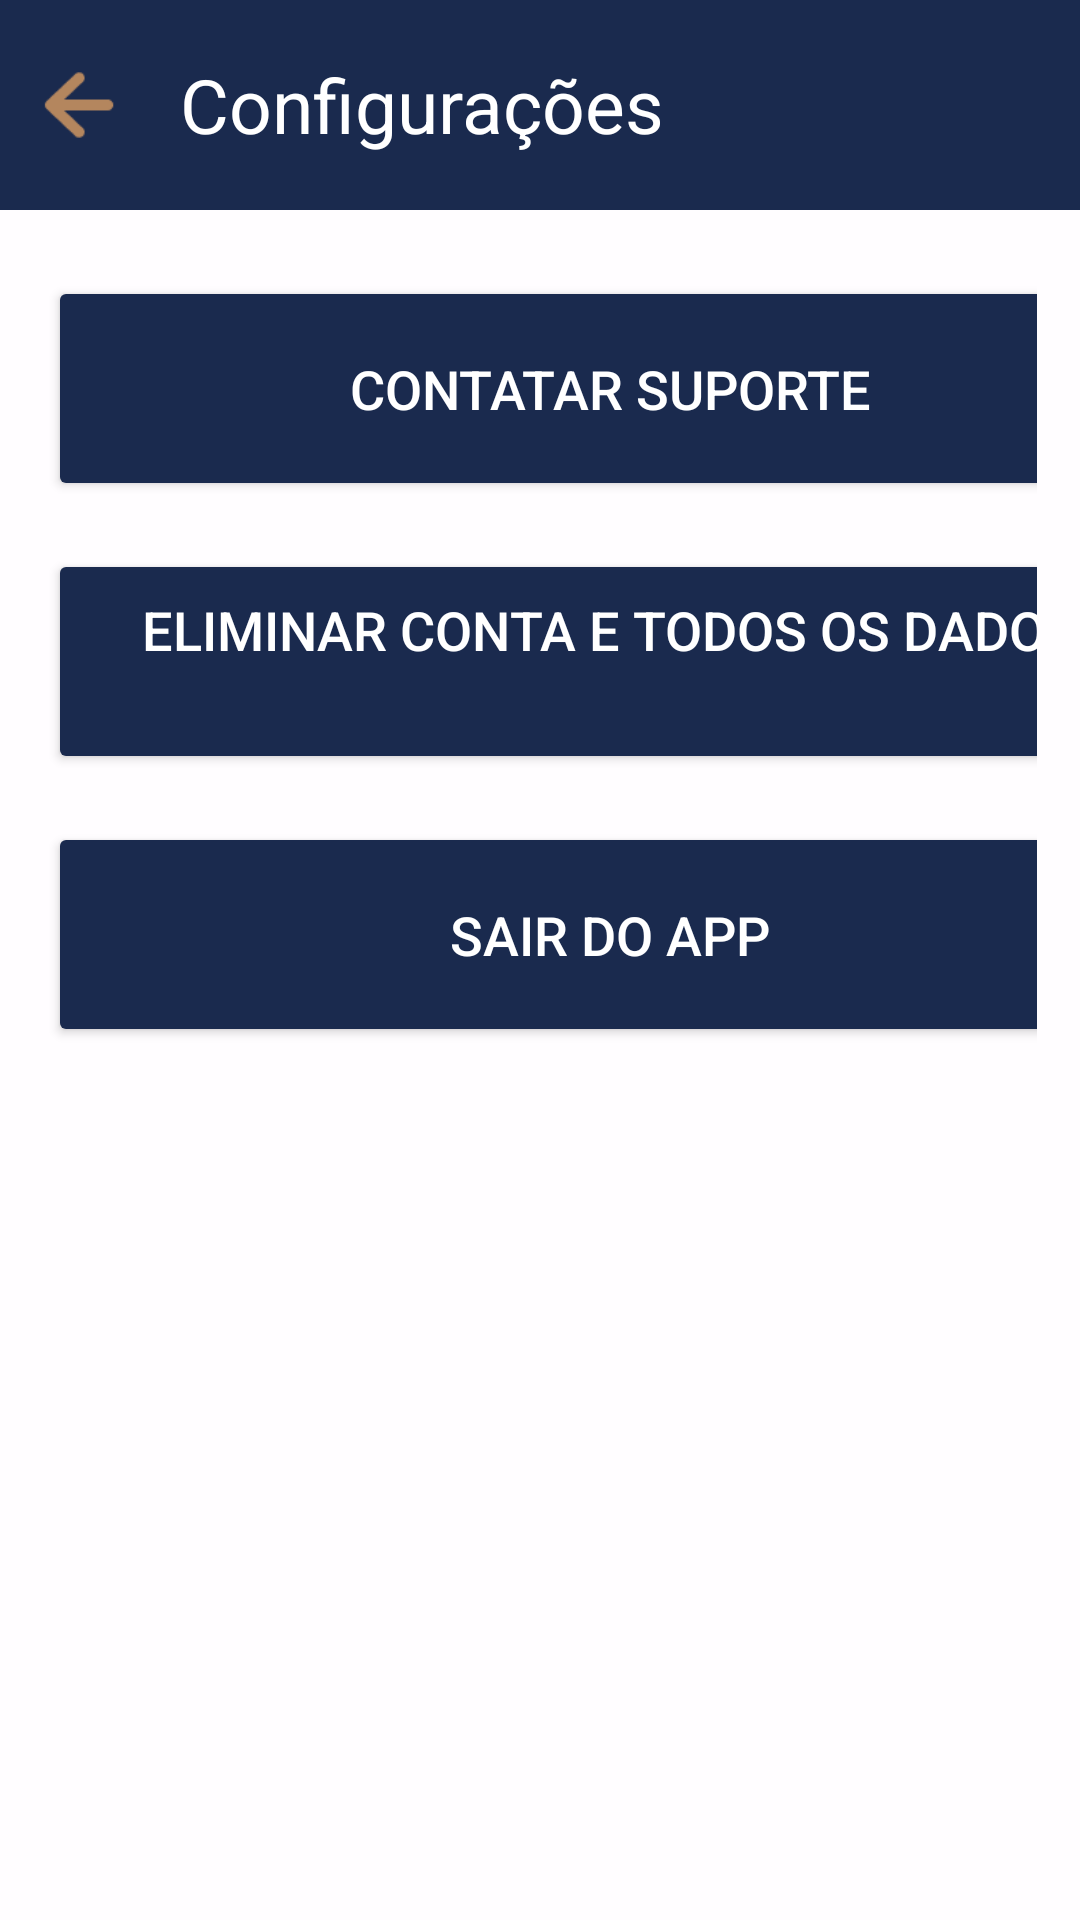

Where to tap for icons on this 1080*1920 app screen, as (x=x, y=y):
Voltar: (x=79, y=105)
